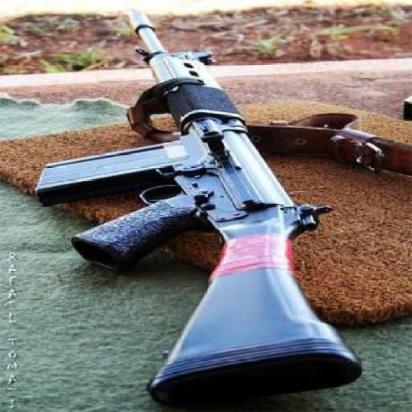Gun: (77, 9, 355, 404)
